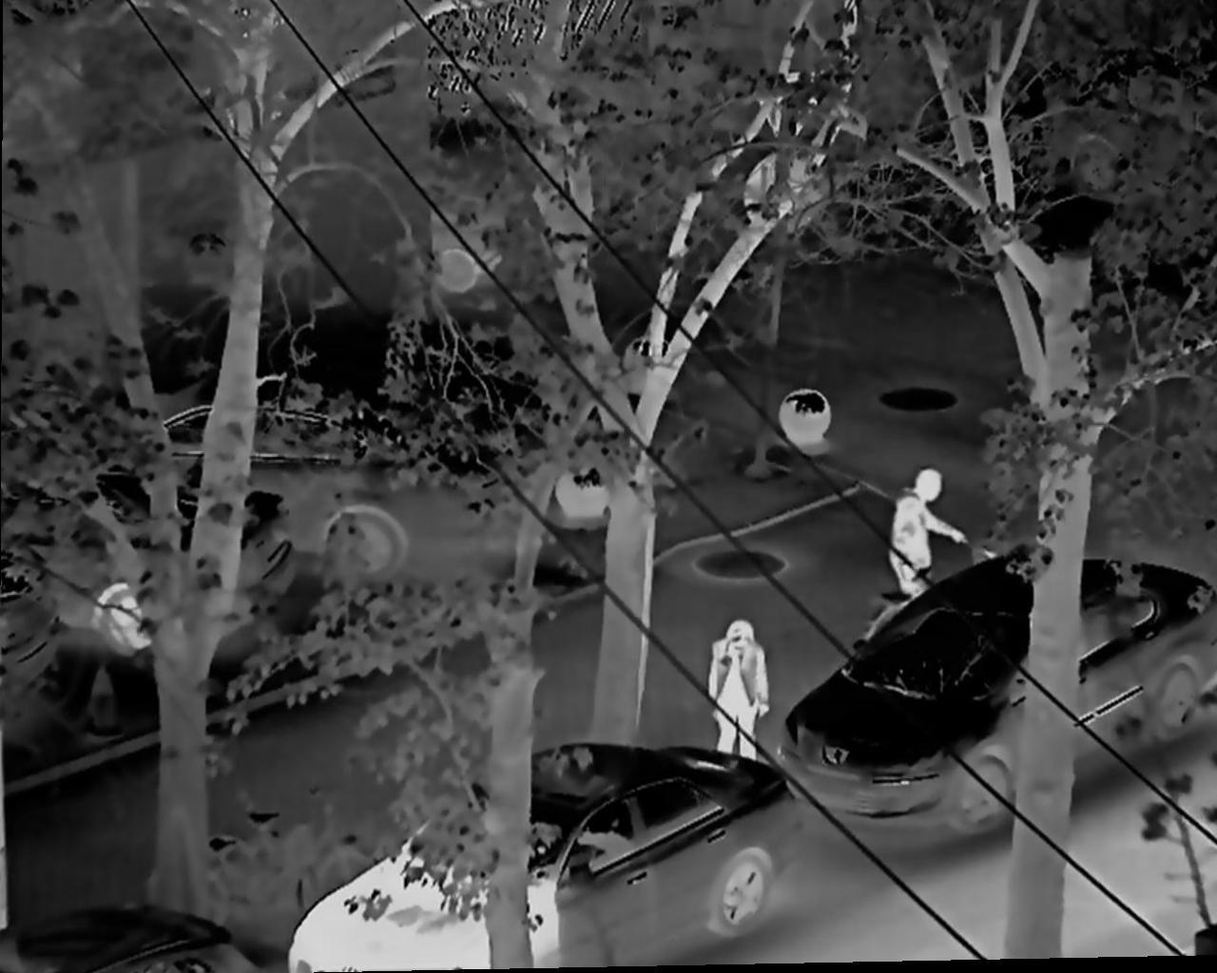person: (888, 467, 970, 615), (705, 619, 770, 764)
